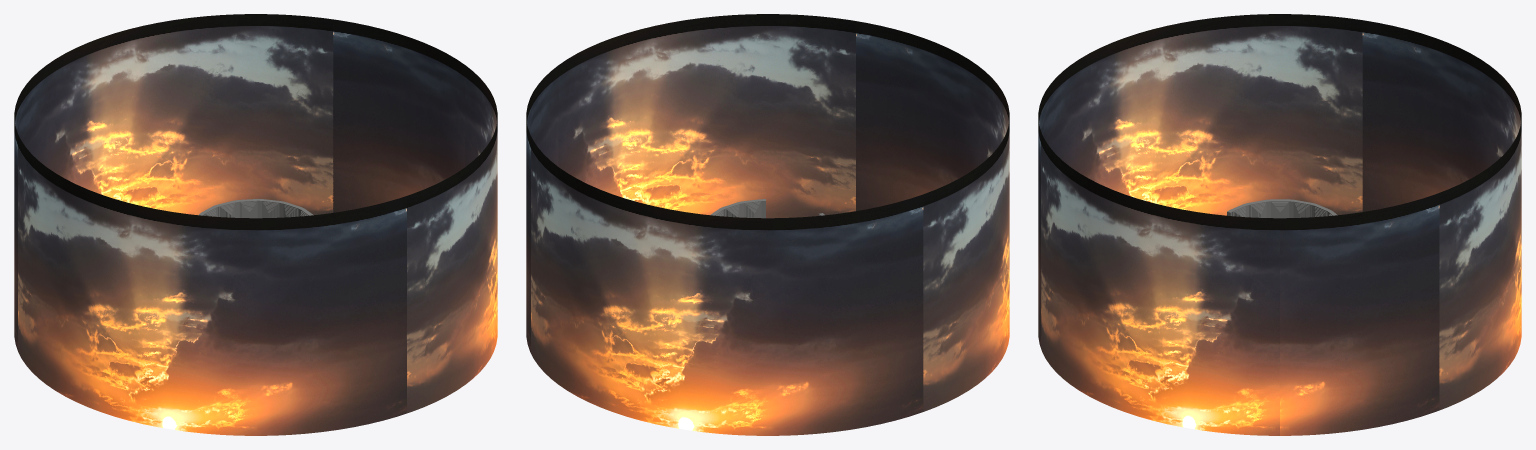
The model's file is hall.glb.
The picture shows the model from 3 angles, left to right: view 1: azimuth 30°, elevation 25°; view 2: azimuth 150°, elevation 25°; view 3: azimuth 270°, elevation 25°; orthographic projection.
Parts seen in each view (by area): view 1: Object_3, Object_4, Object_5; view 2: Object_3, Object_5; view 3: Object_3, Object_5, Object_4.
Part boxes in pixels (left/top/right/bottom): Object_3: left=14, top=14, right=497, bottom=435; Object_4: left=199, top=199, right=303, bottom=218; Object_5: left=201, top=200, right=313, bottom=217; Object_3: left=526, top=14, right=1009, bottom=435; Object_5: left=710, top=199, right=824, bottom=217; Object_3: left=1038, top=14, right=1521, bottom=435; Object_5: left=1230, top=199, right=1337, bottom=218; Object_4: left=1227, top=199, right=1332, bottom=217.
Size of the model in its own units: 84.48 by 41.99 by 84.43.
3 materials, 2 textured.
